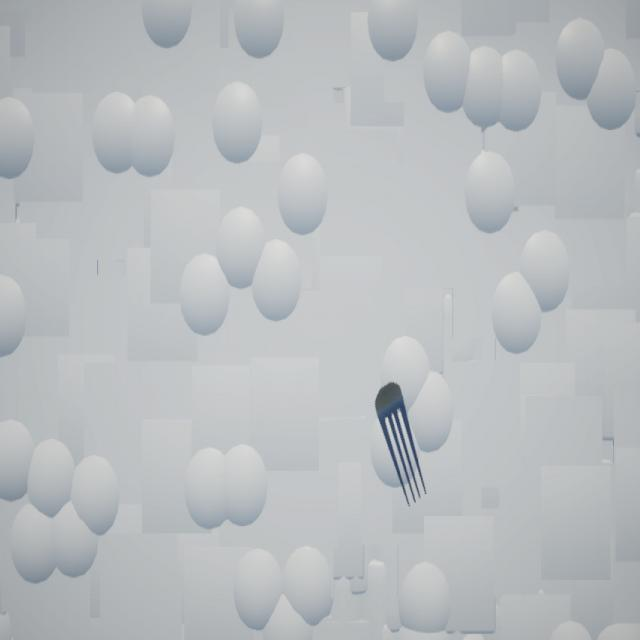top_folk: (375, 383, 428, 508)
